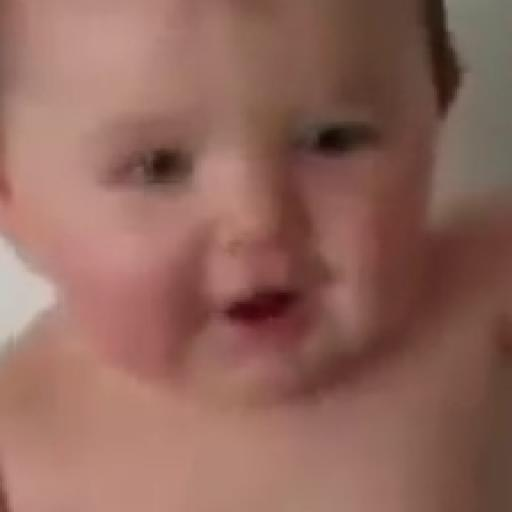Autism: (78, 0, 425, 430)
